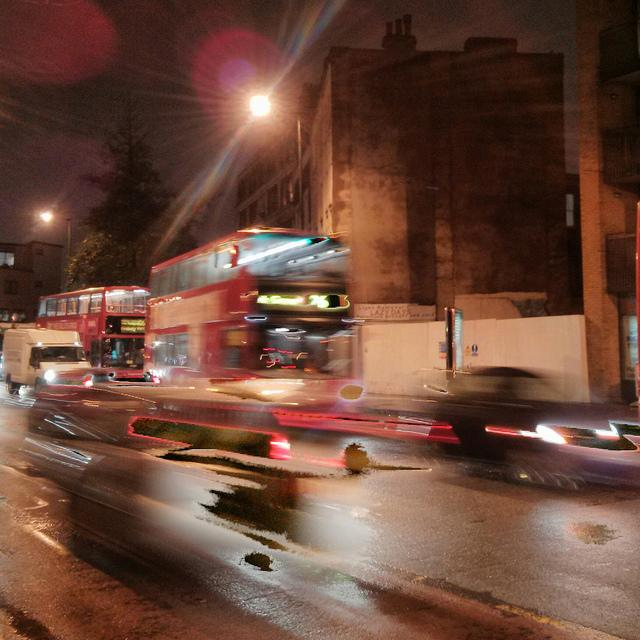Vehicle: (135, 223, 356, 411), (427, 362, 640, 487), (35, 285, 147, 379), (130, 404, 292, 468), (1, 328, 96, 395)
